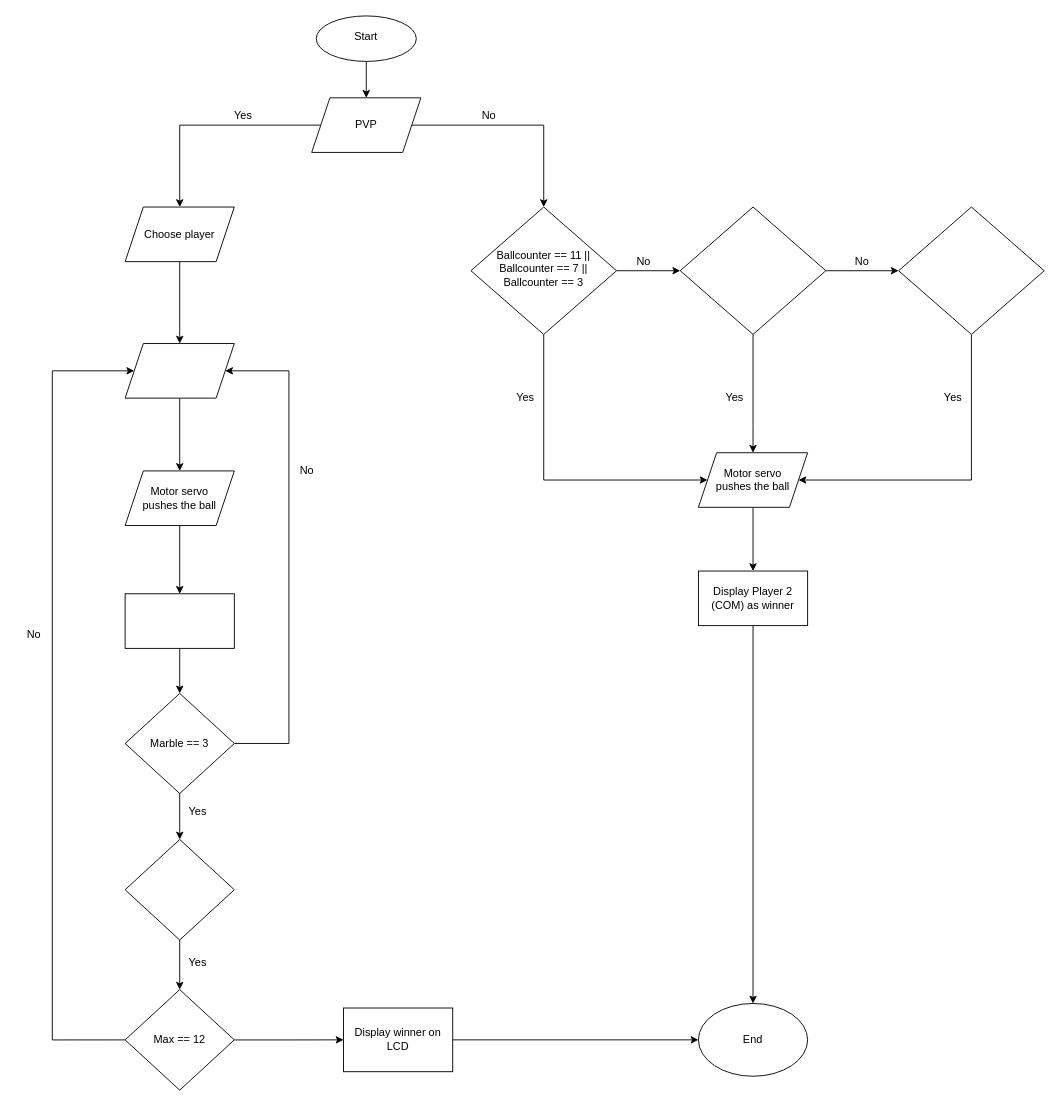
Image size: 1060x1107. Some labels were removed from this diagram. Each missing label, with the centre of its shape:
"Ballcounter == 10 || Ballcounter == 6 || Ballcounter == 2" goes at (752,270).
"Ballcounter == 9 || Ballcounter == 5 || Ballcounter == 1" goes at (971,270).
"Count up" goes at (179,620).
"Next player" goes at (179,889).
"Play" goes at (179,370).
